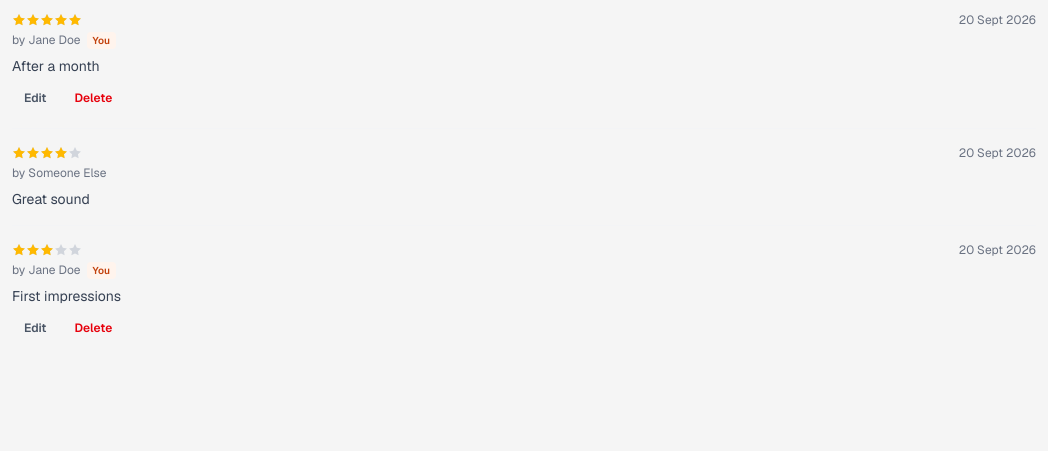
Test: reviews › RatingList › edits one specific review
Click the button with aria-label "Edit review" at point(35, 328), box [12,314,58,342]
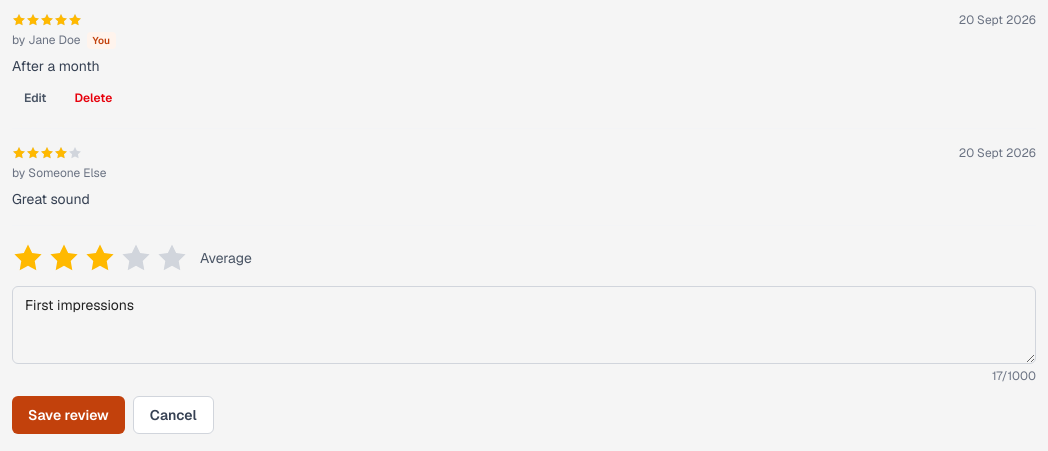
Now the radio button named "3 stars" is checked, box [84,242,116,274]
Now the text box named "Comment" holds "First impressions", box [12,286,1036,364]
Click the radio button named "4 stars" at point(136, 258), box [120,242,152,274]
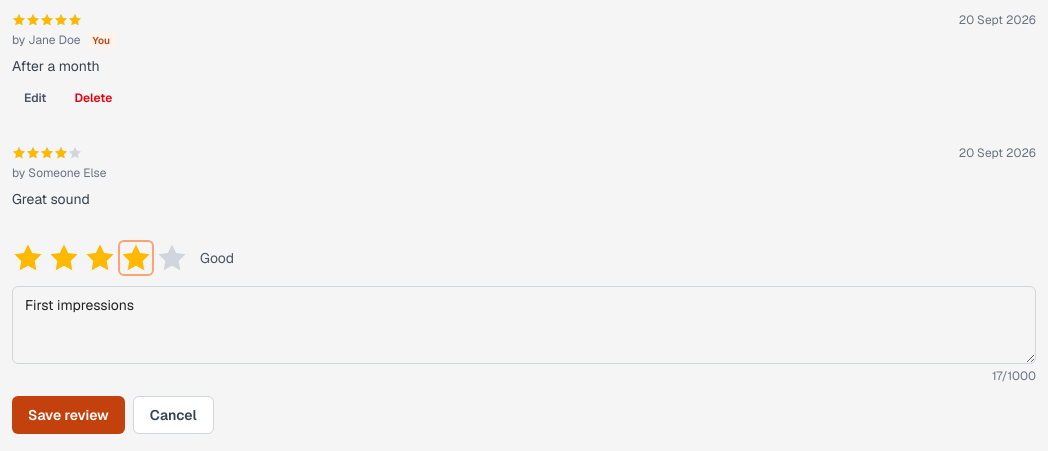
Type ", updated" into the text box named "Comment" at point(524, 325), box [12,286,1036,364]
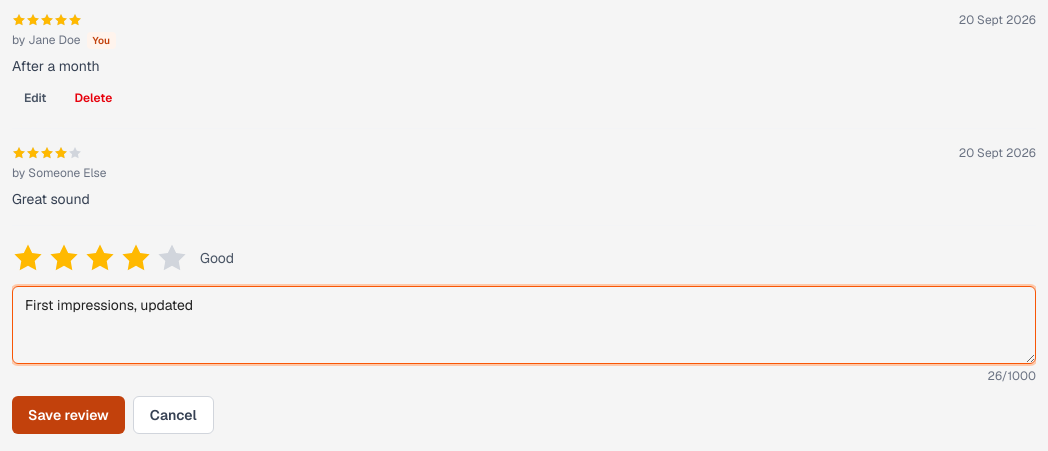
Click the button "Save review" at point(68, 415), box [12,396,125,434]
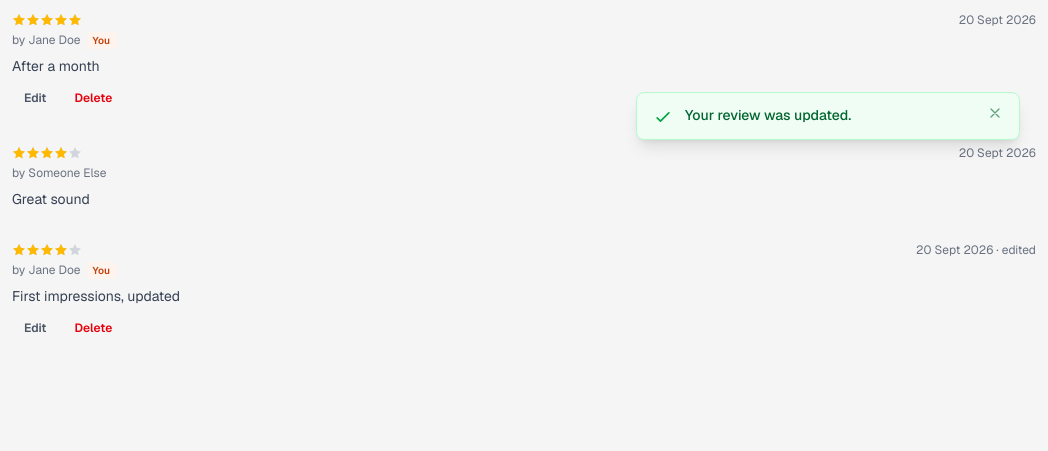
Expected: the text "After a month" is shown, [12,57,100,75]
Now the text "20 Sept 2026 · edited" is shown, box [916,242,1036,258]
Now the text "Your review was updated." is shown, box [636,92,1020,140]
